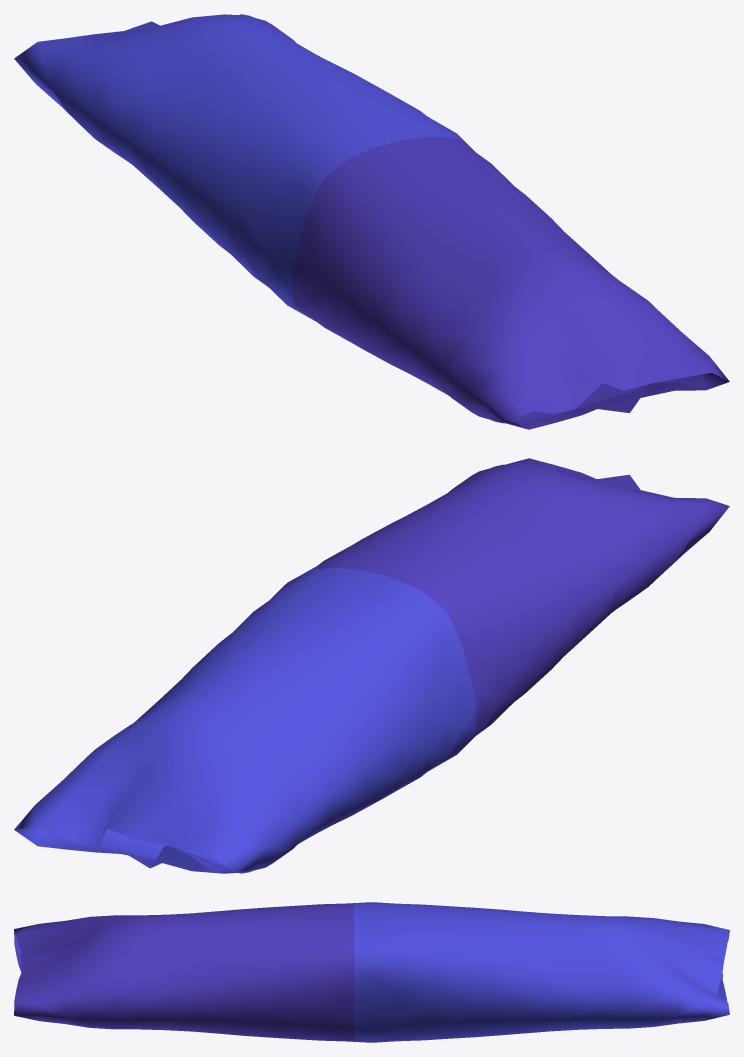
File: paqueteMasita.fbx
The picture shows the model from 3 angles, top to bottom: view 1: azimuth 30°, elevation 25°; view 2: azimuth 150°, elevation 25°; view 3: azimuth 270°, elevation 25°; orthographic projection. The views are drawn at different scales.
Parts seen in each view (by area): view 1: paqueteMasita; view 2: paqueteMasita; view 3: paqueteMasita.
Boxes of the visible parts, <box> form: paqueteMasita: <box>14,14,729,429</box>; paqueteMasita: <box>14,458,729,873</box>; paqueteMasita: <box>14,902,729,1042</box>.
Bounding box in the file's own units: 18.65 × 13.73 × 73.54.
